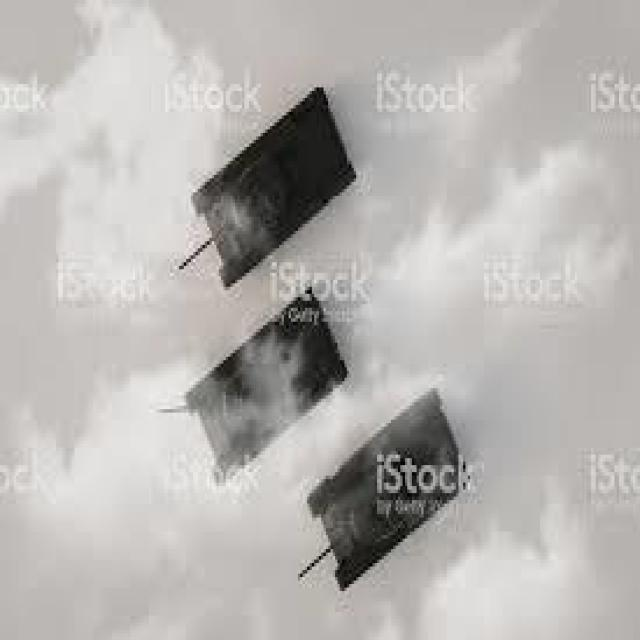Tanks: (191, 82, 356, 296), (310, 390, 463, 593), (189, 286, 349, 476)
